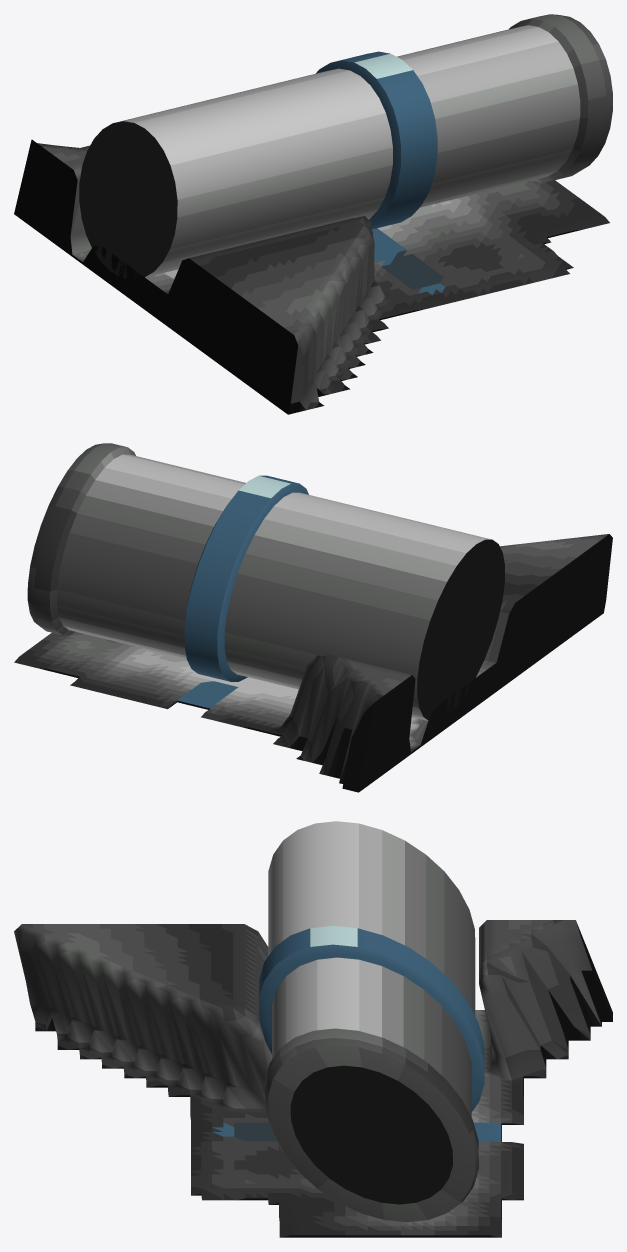
File: cannon_barrel_r.glb
3 views of the same model, one above another, from view 1: azimuth 30°, elevation 25°; view 2: azimuth 150°, elevation 25°; view 3: azimuth 270°, elevation 25° (orthographic). The views are drawn at different scales.
Visible parts, largest first — view 1: cannon_barrel_r; view 2: cannon_barrel_r; view 3: cannon_barrel_r.
Part boxes in pixels (x1,y1,x2,y2): cannon_barrel_r: (14,14,612,414); cannon_barrel_r: (14,443,612,792); cannon_barrel_r: (14,821,612,1237).
Size of the model in its own units: 24 by 9.9 by 26.96.
